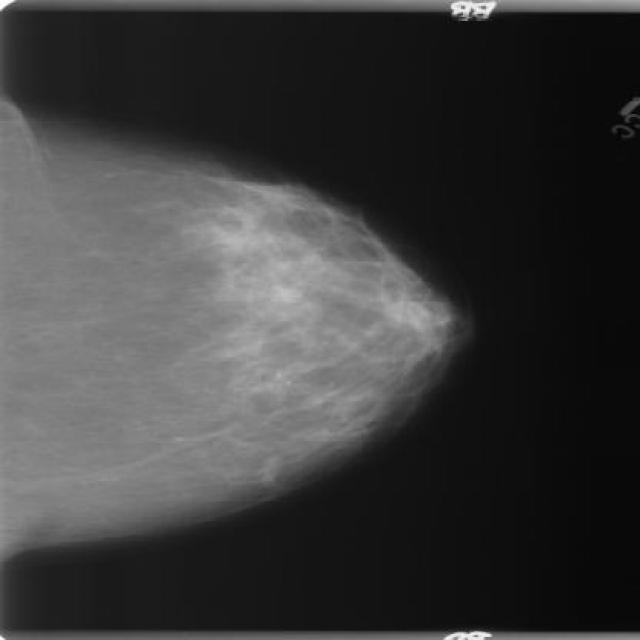tumor: (190, 172, 457, 478)
